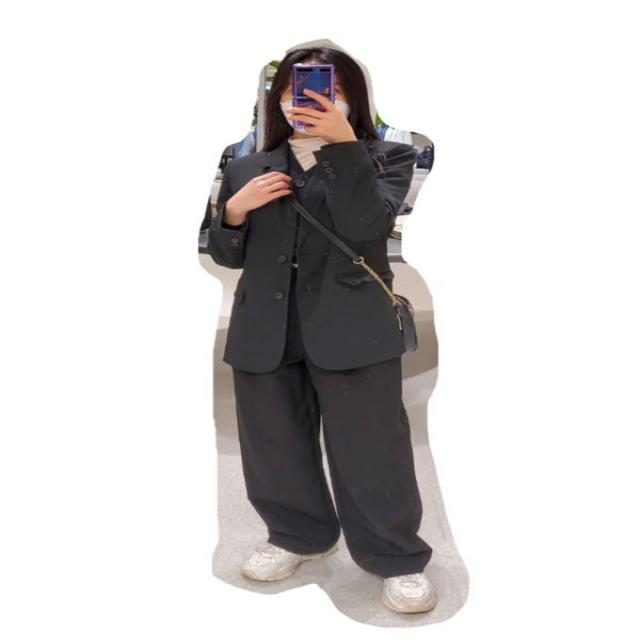blazer: (208, 139, 420, 370)
slacks: (233, 259, 436, 577)
